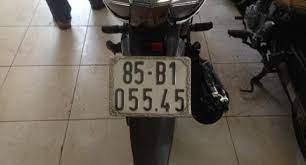numplate: (108, 54, 192, 117)
